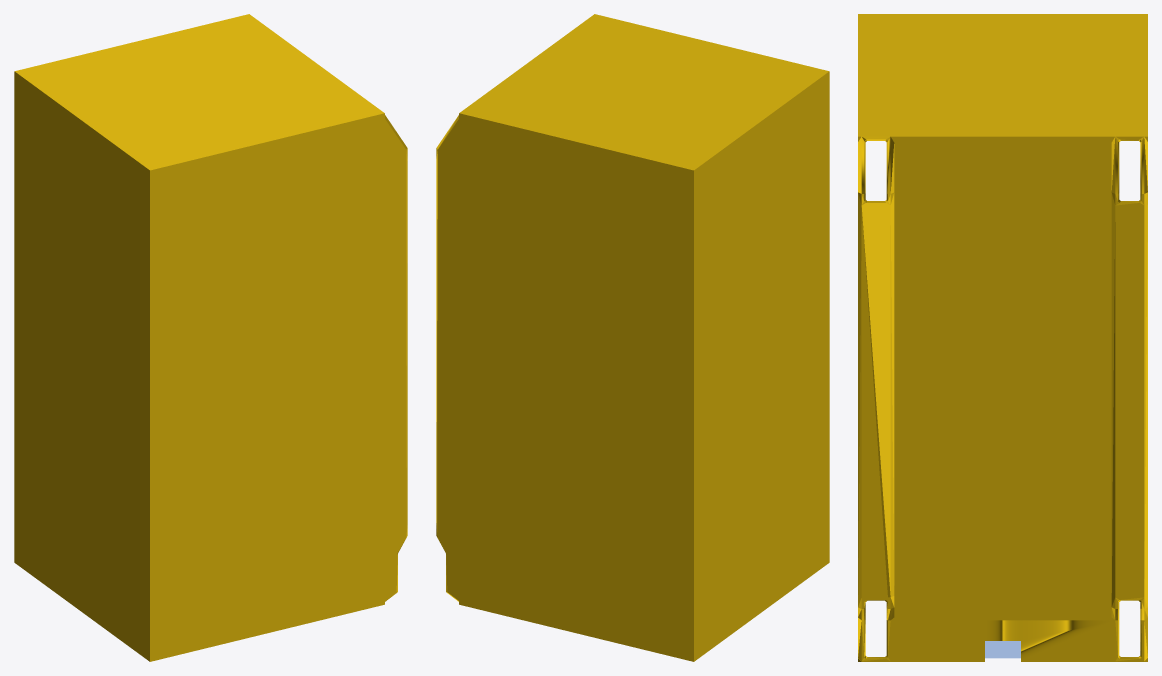
File: uee_stanton_kit_ext_wall_4x4x8_03_reg.glb
3 views of the same model, side by side, from view 1: azimuth 30°, elevation 25°; view 2: azimuth 150°, elevation 25°; view 3: azimuth 270°, elevation 25° (orthographic). The views are drawn at different scales.
Size of the model in its own units: 4.41 by 8 by 4.
